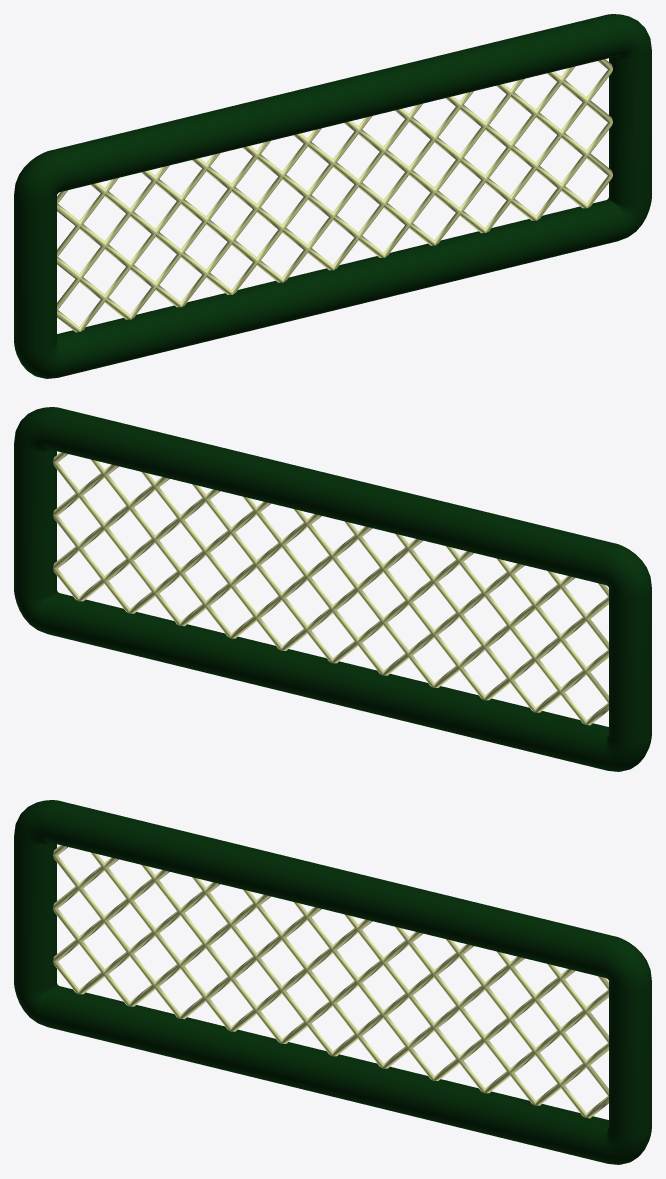
Rendered from fence_quarter.fbx.
3 views of the same model, one above another, from view 1: azimuth 30°, elevation 25°; view 2: azimuth 150°, elevation 25°; view 3: azimuth 330°, elevation 25° (orthographic).
Visible parts, largest first — view 1: posts, mesh_net; view 2: posts, mesh_net; view 3: posts, mesh_net.
Part boxes in pixels (x1,y1,x2,y2): posts: (14,14,651,378); mesh_net: (57,59,612,332); posts: (14,407,651,771); mesh_net: (53,452,608,725); posts: (14,800,651,1164); mesh_net: (53,845,608,1118).
Bounding box in the file's own units: 340 × 115 × 20.
